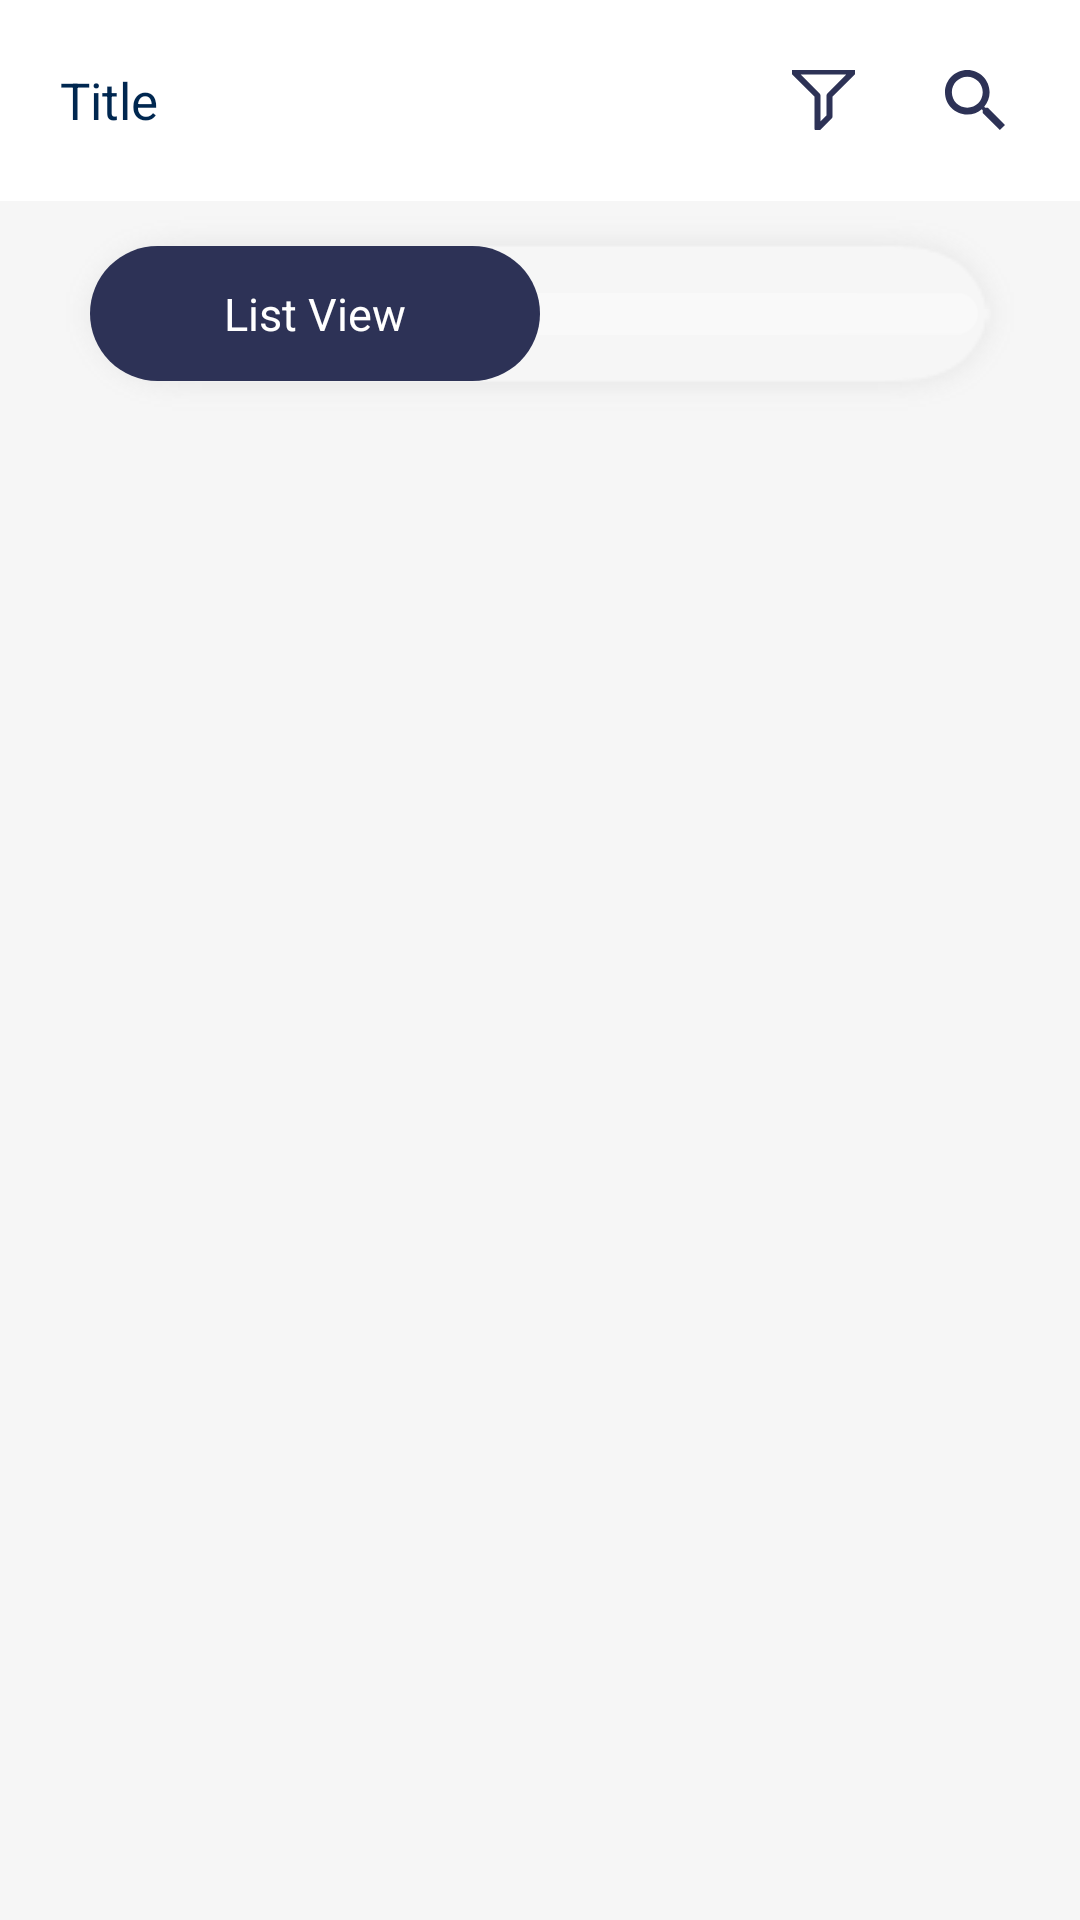

Screen size 1080×1920. Icon name, then its box in pixels as bbox=[x1, y1, x2, y2]:
Filter Icon: bbox=[792, 70, 855, 130]
Search Icon: bbox=[945, 70, 1005, 130]
